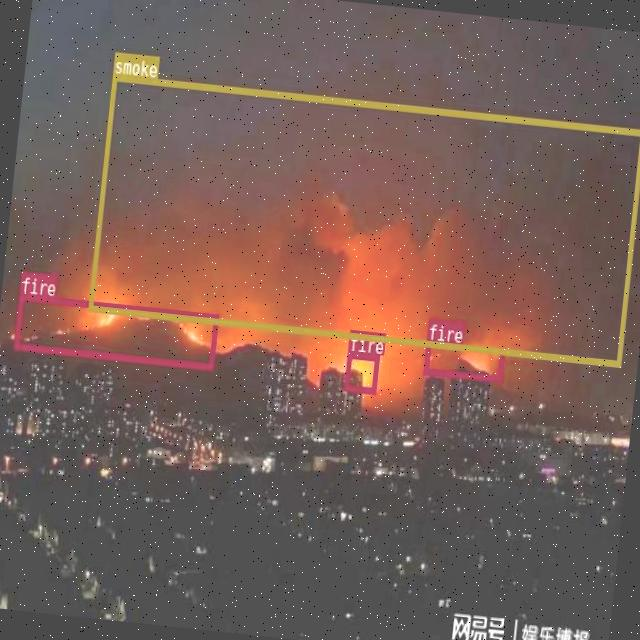fire: (14, 293, 218, 368), (423, 340, 504, 380), (343, 350, 379, 392)
smoke: (87, 73, 640, 366)
